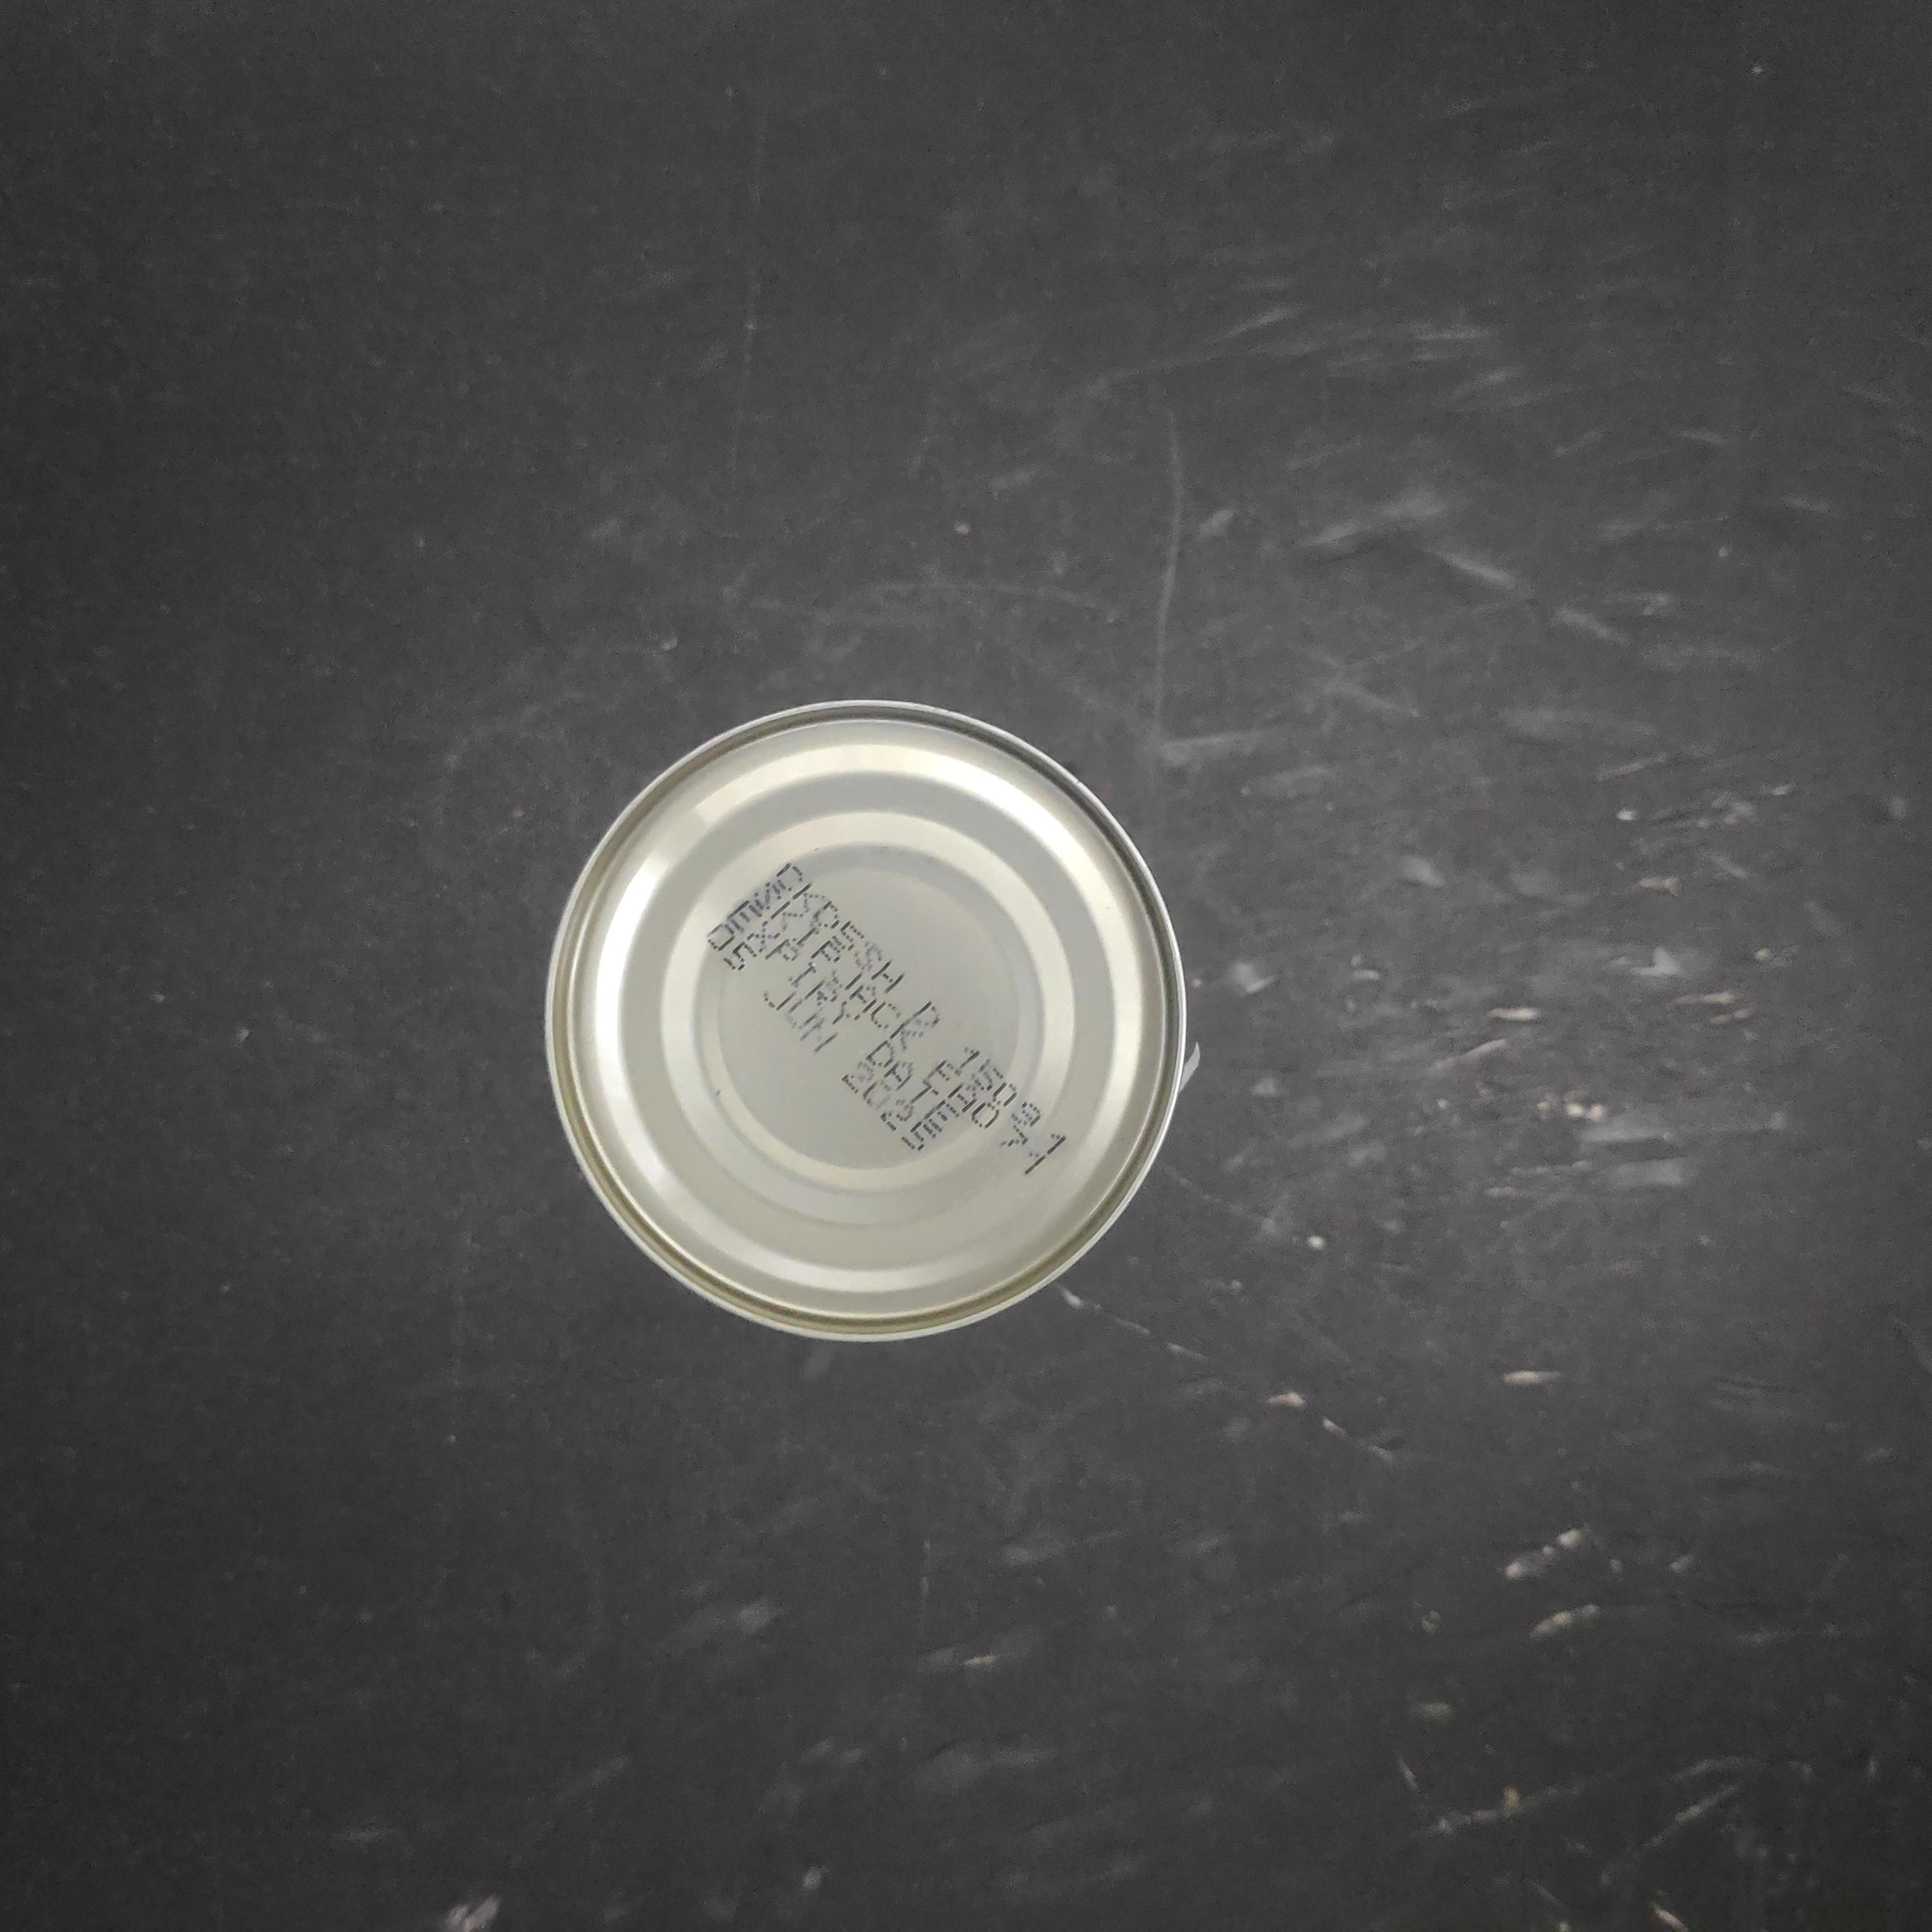No defect: (531, 685, 1196, 1362)
